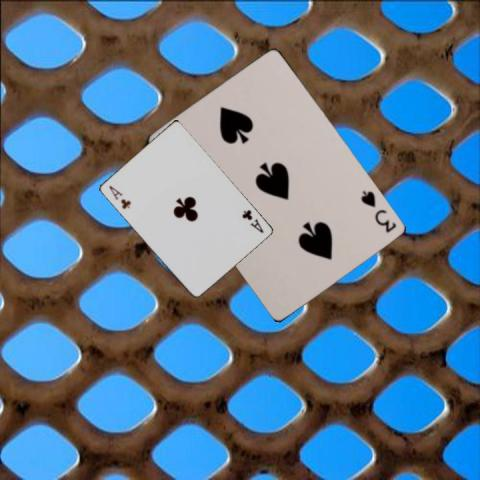3s: (358, 188, 398, 234)
Ac: (105, 182, 132, 210), (238, 206, 264, 234)
